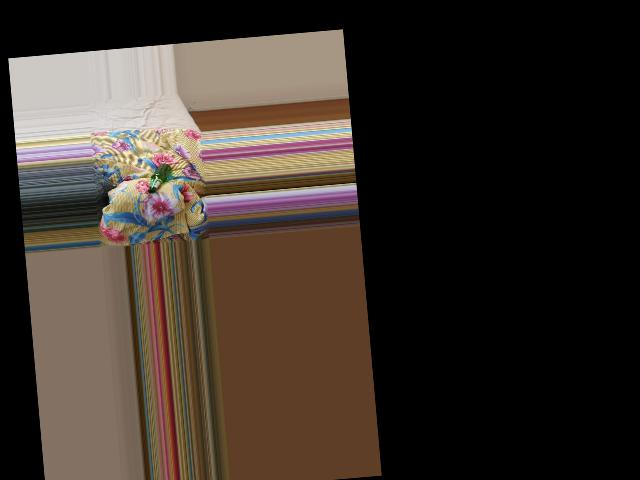beer: (146, 163, 173, 194)
